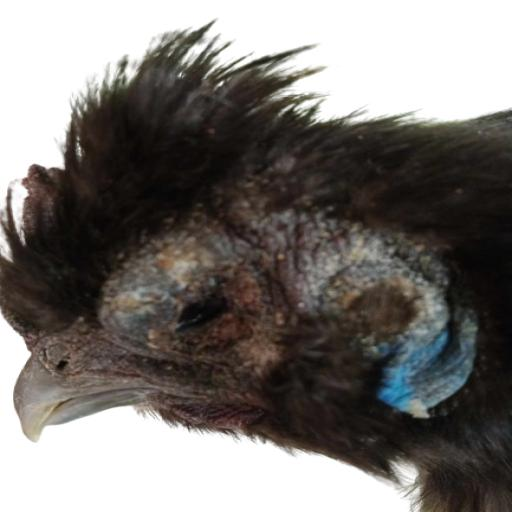disease: (97, 237, 296, 377)
